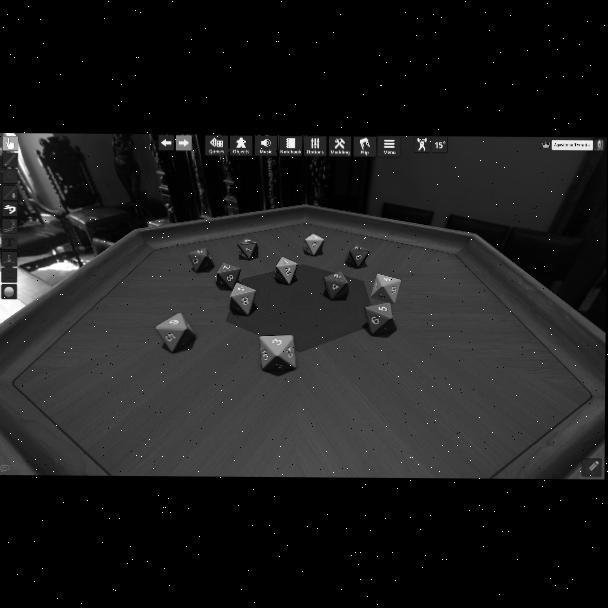d8: (155, 312, 196, 352), (259, 335, 296, 371), (365, 303, 395, 334), (229, 282, 256, 315), (372, 273, 400, 303), (323, 271, 347, 300), (187, 247, 213, 272), (274, 258, 298, 285), (217, 263, 241, 289), (345, 245, 367, 269), (237, 237, 258, 260), (304, 234, 322, 255)
